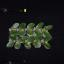leaf: (18, 36, 29, 42), (34, 40, 42, 48), (8, 30, 18, 36), (19, 22, 26, 30), (7, 40, 14, 48), (43, 42, 51, 49), (24, 42, 32, 49), (42, 31, 52, 36), (36, 22, 43, 29), (11, 23, 19, 29), (26, 23, 34, 29), (17, 30, 25, 36), (44, 36, 52, 42), (28, 36, 36, 42), (15, 42, 21, 49), (26, 29, 33, 35), (46, 24, 52, 30), (35, 29, 41, 35), (36, 34, 42, 40), (10, 35, 17, 40), (42, 26, 46, 31), (18, 38, 23, 42)
